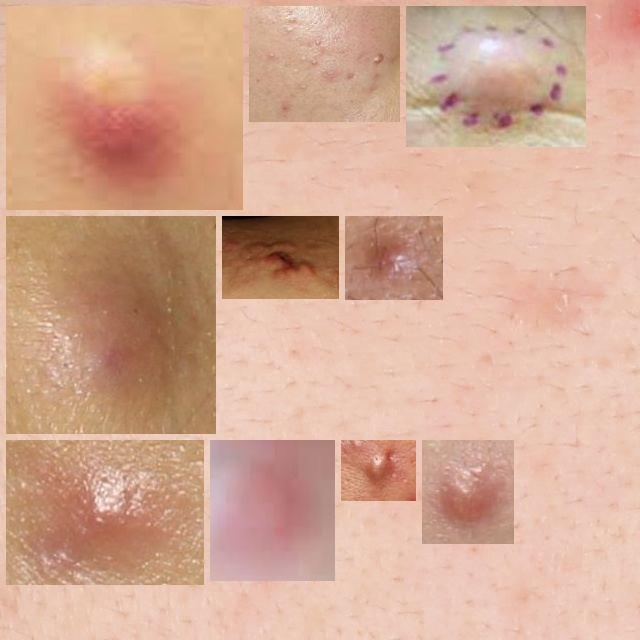nodule: (14, 14, 235, 202), (14, 224, 208, 426), (14, 448, 196, 577), (414, 14, 578, 139), (218, 448, 327, 573), (257, 14, 392, 114), (230, 224, 331, 291), (430, 448, 506, 536), (353, 224, 435, 292), (349, 448, 408, 493)
